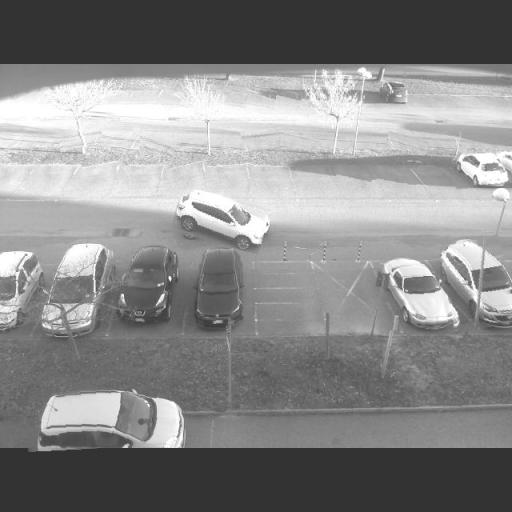busy: (26, 387, 182, 450), (443, 237, 512, 331), (104, 244, 182, 326), (172, 190, 268, 250), (381, 256, 456, 330), (184, 246, 246, 327), (42, 248, 114, 302), (1, 254, 36, 326), (453, 153, 509, 189), (38, 306, 98, 336), (379, 78, 411, 106), (497, 151, 512, 182)
free: (69, 156, 126, 200), (24, 160, 82, 198), (157, 159, 211, 196), (114, 160, 166, 197), (290, 158, 336, 194), (245, 160, 294, 190), (202, 160, 251, 188), (330, 163, 372, 194), (130, 130, 176, 158), (376, 166, 416, 197), (240, 126, 286, 152), (57, 127, 103, 151), (241, 87, 276, 110), (279, 133, 319, 152), (386, 134, 428, 152), (268, 89, 302, 111), (214, 87, 247, 108), (97, 133, 140, 149), (156, 88, 191, 107), (10, 87, 50, 103), (126, 89, 162, 106), (419, 168, 450, 184)
